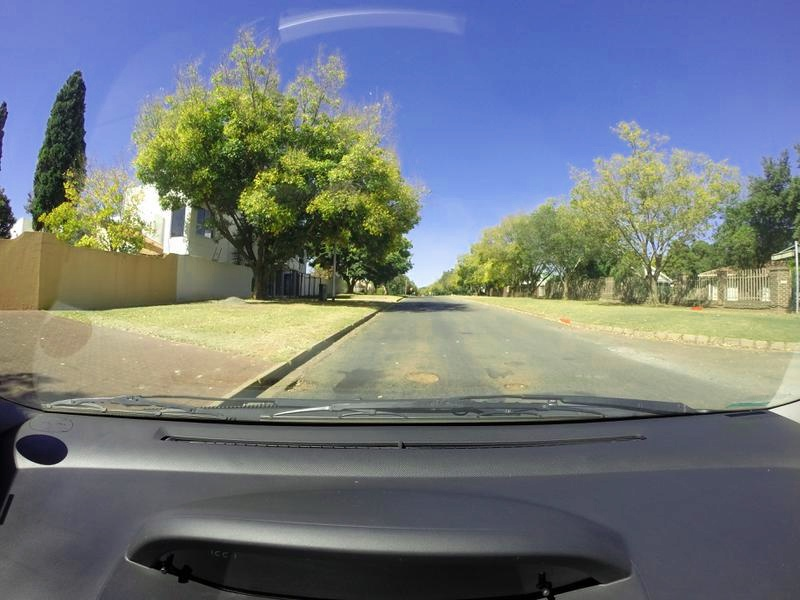pothole: (403, 367, 450, 385), (284, 378, 316, 394), (501, 377, 532, 393)
